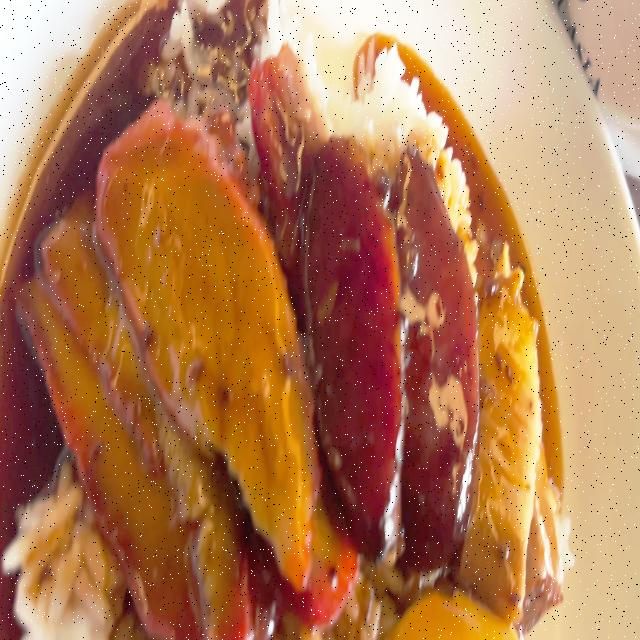chainese_sausage: (298, 141, 477, 571), (298, 132, 398, 532), (392, 145, 472, 556)
crispy_pork: (474, 236, 538, 608)
red_pork: (29, 109, 308, 609), (111, 136, 307, 560), (59, 201, 232, 618), (22, 228, 197, 624), (257, 30, 314, 176)
red_pork_and_crispy_pork: (3, 24, 563, 636)
rice: (11, 504, 116, 640), (349, 35, 433, 136)
